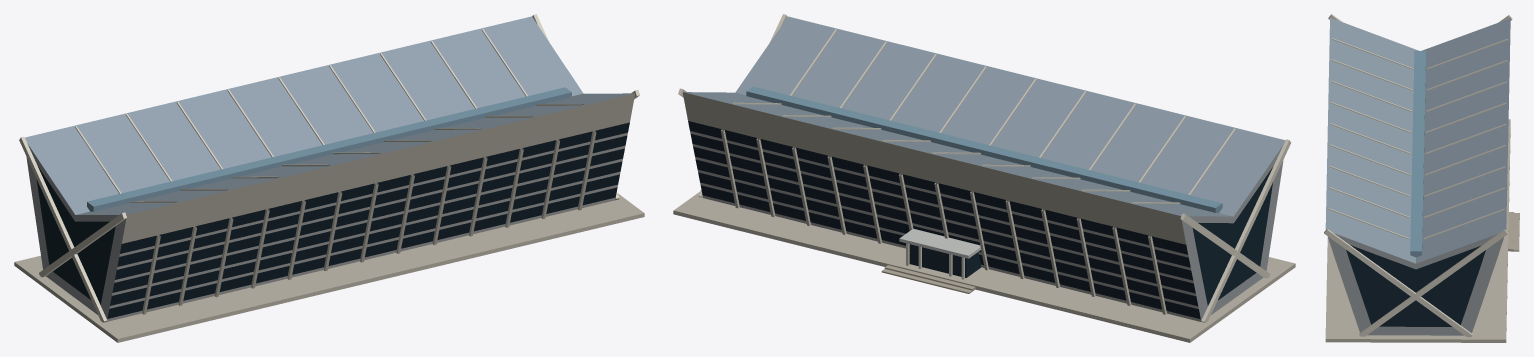
The model's file is perpustakaan-soeman-hs-lod0.glb.
3 views of the same model, side by side, from view 1: azimuth 30°, elevation 25°; view 2: azimuth 150°, elevation 25°; view 3: azimuth 270°, elevation 25° (orthographic). The views are drawn at different scales.
Parts seen in each view (by area): view 1: perpustakaan-soeman-hs_LOD0; view 2: perpustakaan-soeman-hs_LOD0; view 3: perpustakaan-soeman-hs_LOD0.
Part boxes in pixels (<box>): perpustakaan-soeman-hs_LOD0: <box>14,14,644,342</box>; perpustakaan-soeman-hs_LOD0: <box>673,14,1295,342</box>; perpustakaan-soeman-hs_LOD0: <box>1324,14,1519,342</box>.
Size of the model in its own units: 142 by 33.05 by 53.25.
